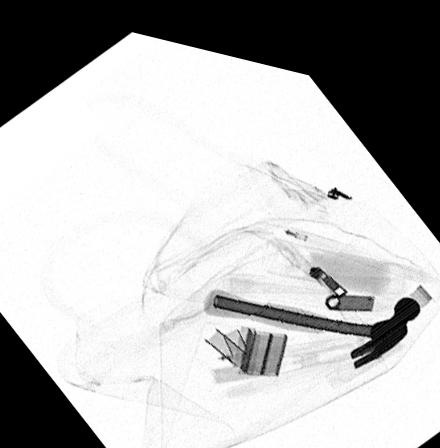Hammer: (200, 275, 419, 351)
